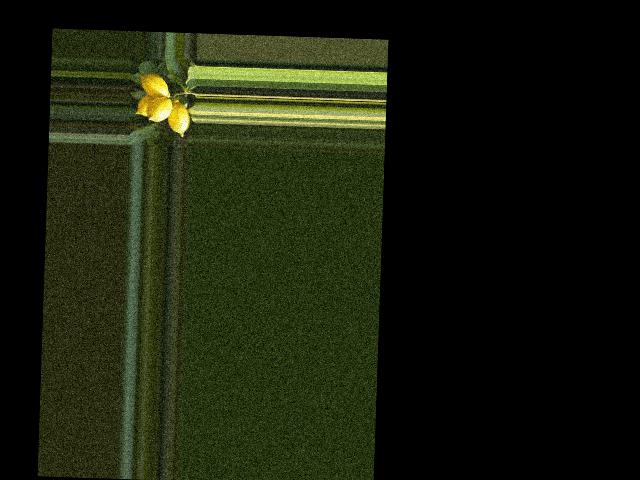lemon: (130, 92, 163, 121)
